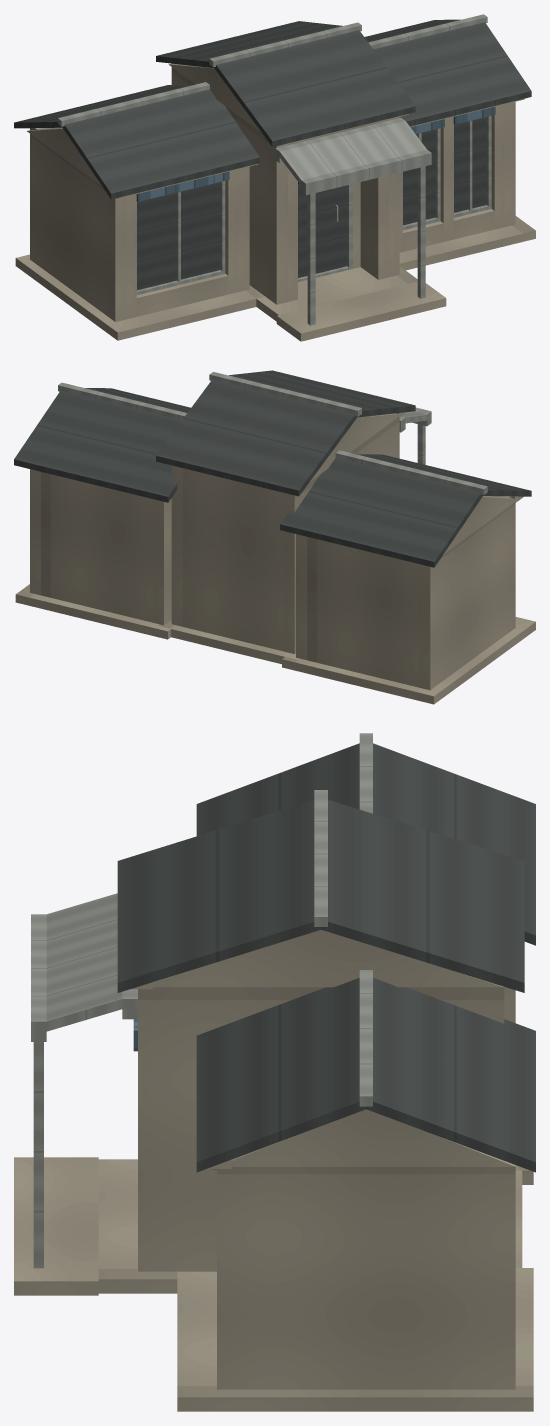
File: tbilisi.glb
3 renders of one model, top to bottom at view 1: azimuth 30°, elevation 25°; view 2: azimuth 150°, elevation 25°; view 3: azimuth 270°, elevation 25°, orthographic. The views are drawn at different scales.
Visible parts, largest first — view 1: tbilisi; view 2: tbilisi; view 3: tbilisi.
Part boxes in pixels (x1=…): tbilisi: x1=14, y1=14, x2=535, y2=341; tbilisi: x1=14, y1=370, x2=535, y2=704; tbilisi: x1=14, y1=733, x2=535, y2=1411.
Size of the model in its own units: 7.58 by 3.7 by 4.61.
Materials: 1 (1 with a texture image).
